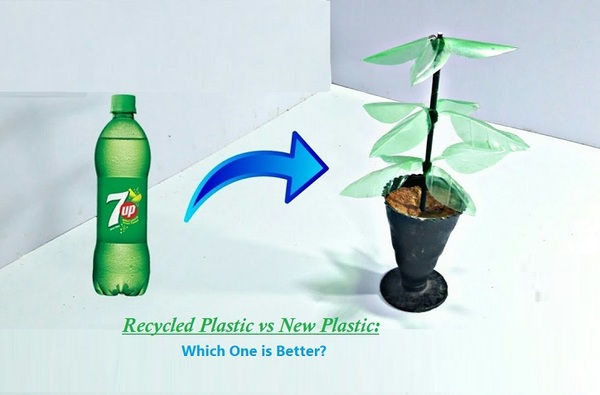plastic_bottle: (39, 54, 190, 317)
